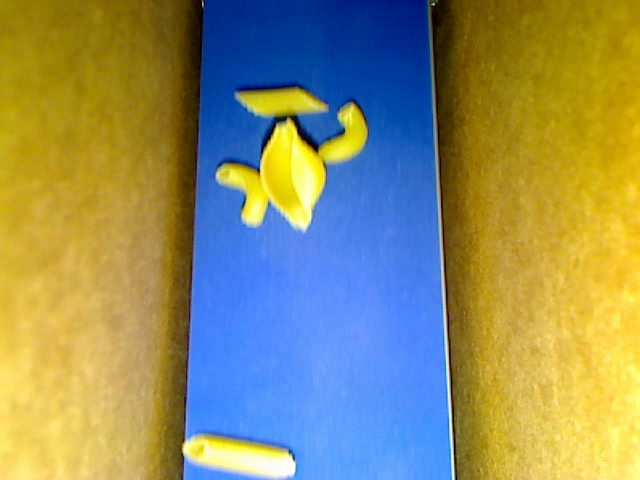elbow: (214, 163, 269, 226), (317, 103, 368, 163)
penne: (182, 434, 296, 477), (233, 87, 328, 118)
shell: (261, 117, 325, 232)
